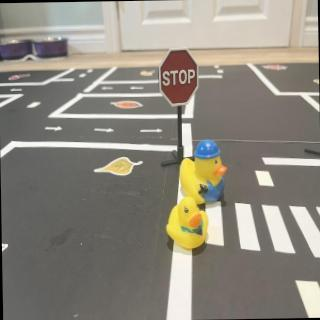duck_regular: (167, 198, 210, 250)
duck_specialty: (180, 140, 228, 202)
road_crosswalk: (202, 193, 320, 264)
road_oneway: (138, 127, 165, 137), (91, 128, 116, 135), (45, 125, 64, 134), (130, 85, 145, 93), (101, 86, 115, 93), (8, 89, 25, 93)
sign_stop: (159, 49, 200, 109)
